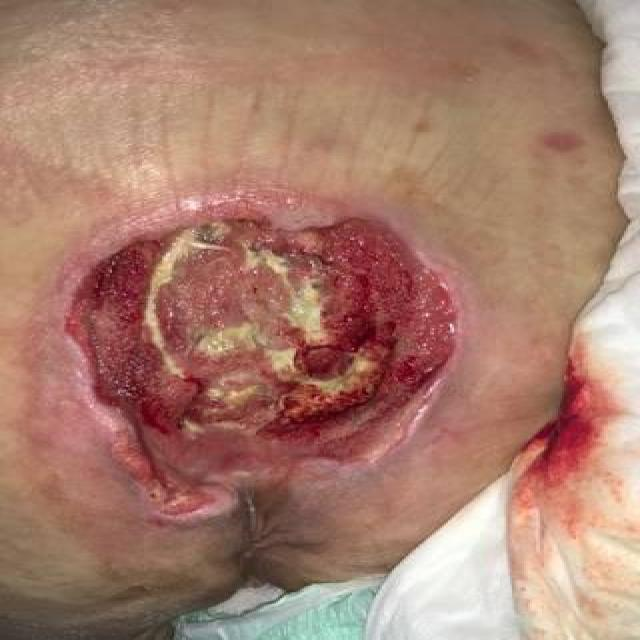stage-4: (70, 214, 451, 508)
